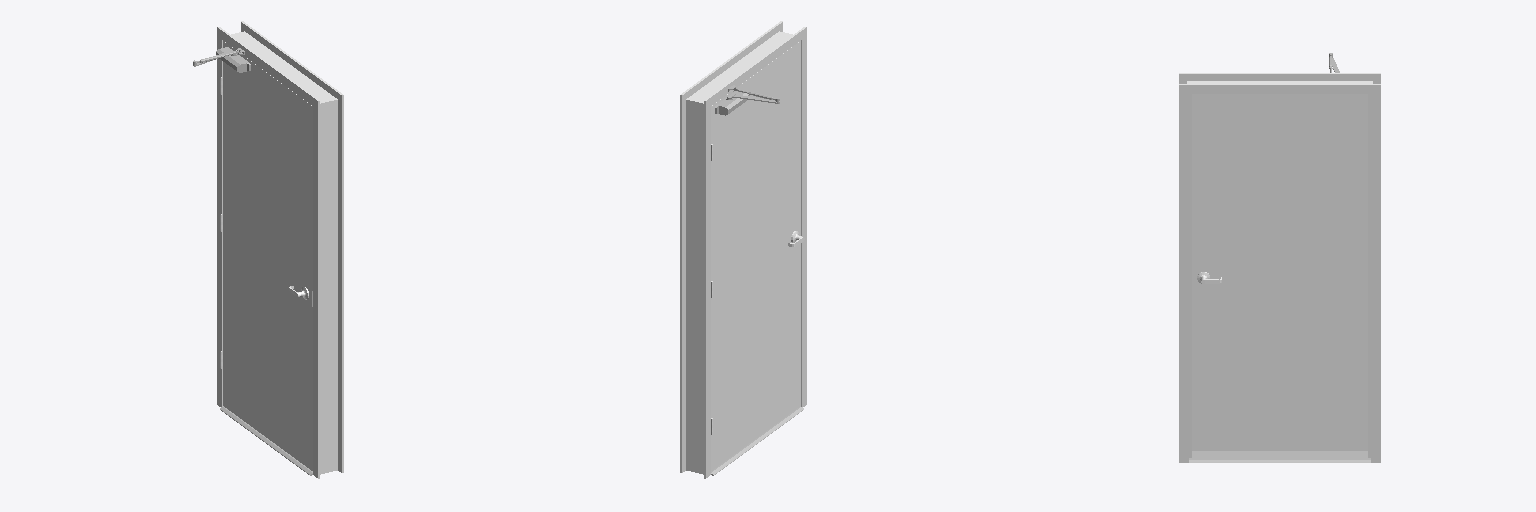
Rendered from 4x7Single.obj.
The picture shows the model from 3 angles: view 1: azimuth 30°, elevation 25°; view 2: azimuth 150°, elevation 25°; view 3: azimuth 270°, elevation 25°; orthographic projection.
Visible parts, largest first — view 1: door_4x7_Cylinder.003, frame_4x7_Plane.015, floor_plate_4x7_Cube.002; view 2: door_4x7_Cylinder.003, frame_4x7_Plane.015, floor_plate_4x7_Cube.002; view 3: door_4x7_Cylinder.003, frame_4x7_Plane.015, floor_plate_4x7_Cube.002.
Part boxes in pixels (bbox=[...]): door_4x7_Cylinder.003: bbox=[220, 41, 312, 470]; frame_4x7_Plane.015: bbox=[217, 21, 343, 478]; floor_plate_4x7_Cube.002: bbox=[220, 406, 312, 475]; door_4x7_Cylinder.003: bbox=[711, 41, 800, 470]; frame_4x7_Plane.015: bbox=[680, 21, 806, 478]; floor_plate_4x7_Cube.002: bbox=[711, 406, 803, 475]; door_4x7_Cylinder.003: bbox=[1192, 94, 1367, 450]; frame_4x7_Plane.015: bbox=[1179, 73, 1380, 462]; floor_plate_4x7_Cube.002: bbox=[1189, 451, 1370, 462].
Size of the model in its own units: 0.4361 by 2.1 by 1.02.